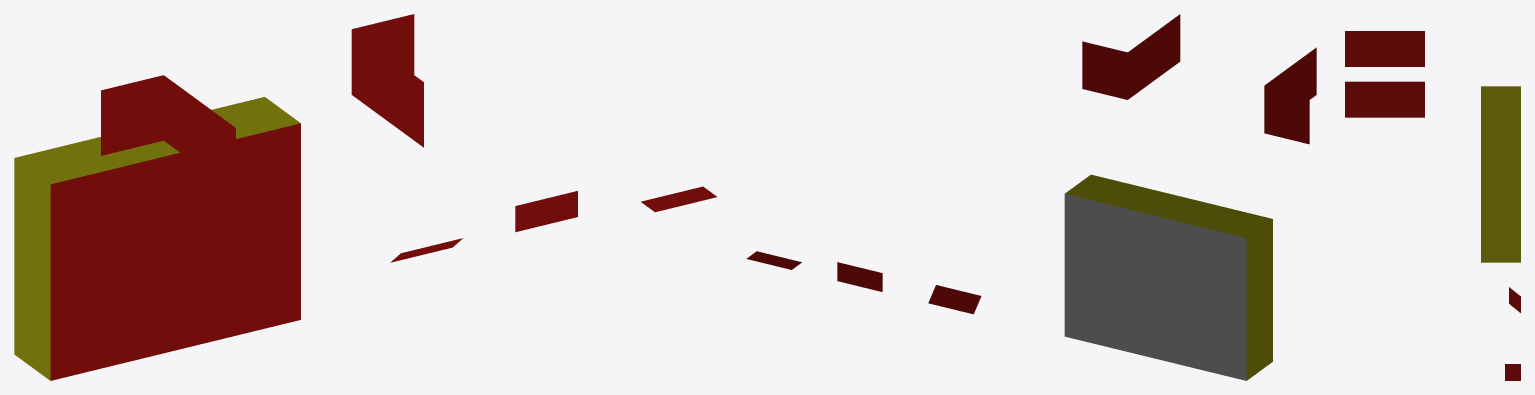
Rendered from idf.obj.
The picture shows the model from 3 angles, left to right: view 1: azimuth 30°, elevation 25°; view 2: azimuth 150°, elevation 25°; view 3: azimuth 270°, elevation 25°; orthographic projection. The views are drawn at different scales.
Size of the model in its own units: 55 by 25 by 22.
